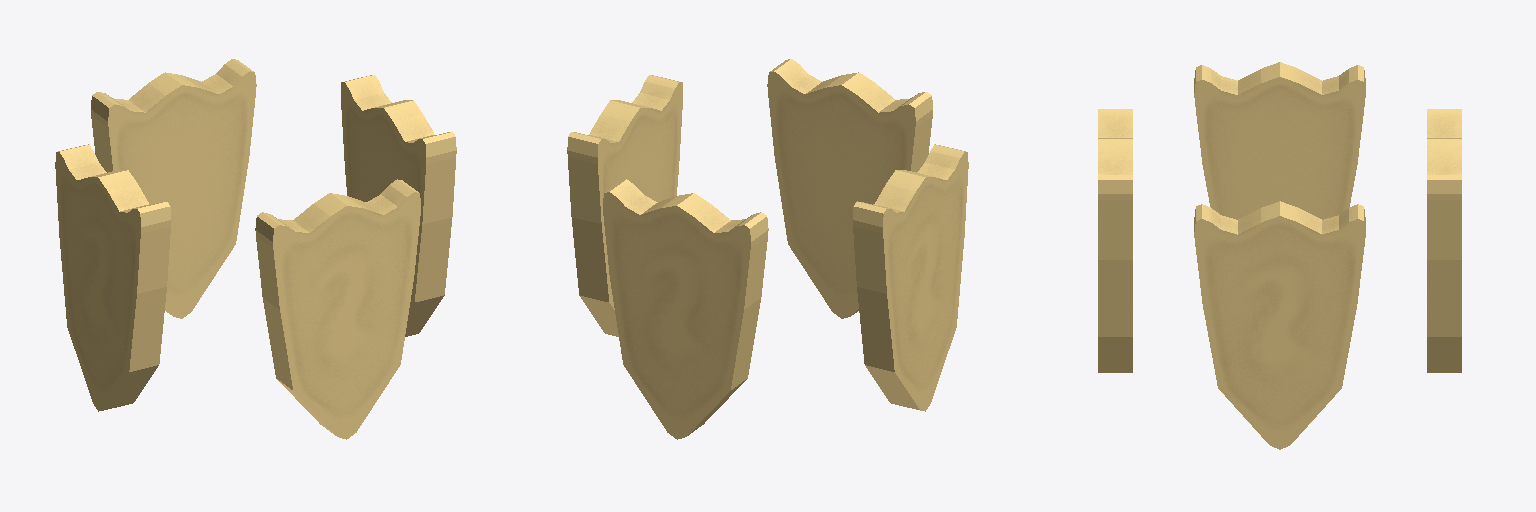
The picture shows the model from 3 angles: view 1: azimuth 30°, elevation 25°; view 2: azimuth 150°, elevation 25°; view 3: azimuth 270°, elevation 25°; orthographic projection.
Parts seen in each view (by area): view 1: shield_lp; view 2: shield_lp; view 3: shield_lp.
Boxes of the visible parts, x1=… form: shield_lp: x1=55, y1=59, x2=456, y2=439; shield_lp: x1=567, y1=59, x2=968, y2=439; shield_lp: x1=1098, y1=62, x2=1461, y2=449.
Bounding box in the file's own units: 2.07 × 1.47 × 2.07.
Materials: 1 (1 with a texture image).